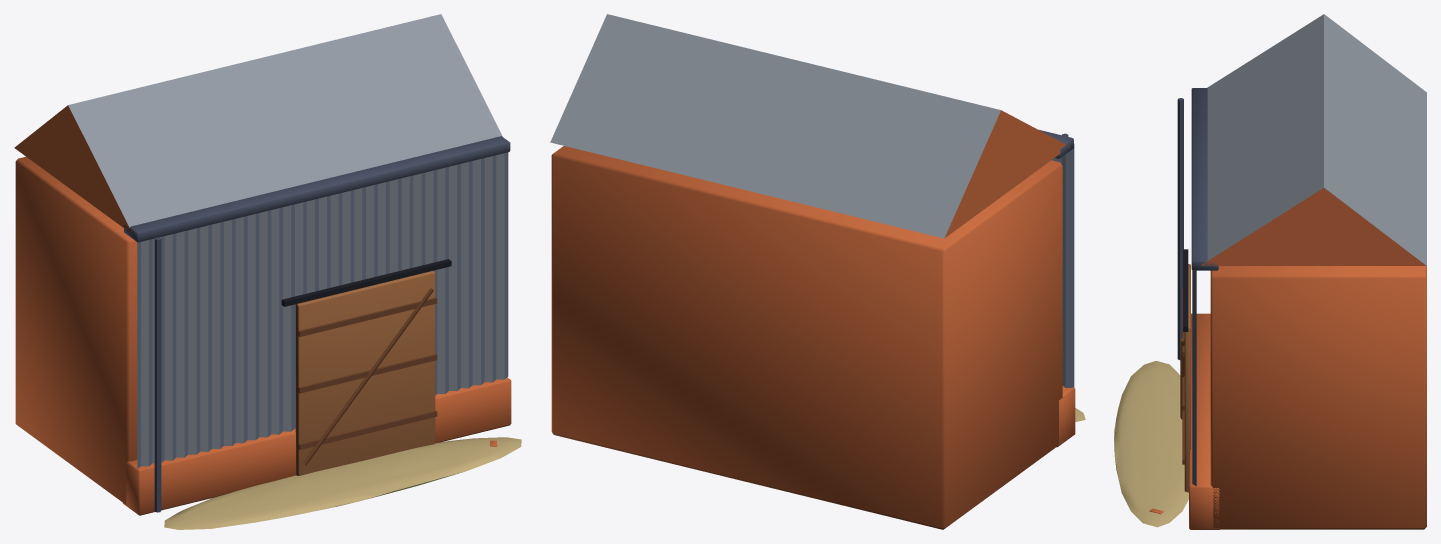
File: FactoryWallB.fbx
3 renders of one model, left to right at view 1: azimuth 30°, elevation 25°; view 2: azimuth 150°, elevation 25°; view 3: azimuth 270°, elevation 25°, orthographic. The views are drawn at different scales.
Visible parts, largest first — view 1: FactoryWallB; view 2: FactoryWallB; view 3: FactoryWallB.
Part boxes in pixels (x1,y1,x2,y2): FactoryWallB: [14, 14, 521, 529]; FactoryWallB: [550, 14, 1085, 529]; FactoryWallB: [1114, 14, 1426, 529].
Bounding box in the file's own units: 7.6 × 7 × 5.78.
Materials: 1 (1 with a texture image).
